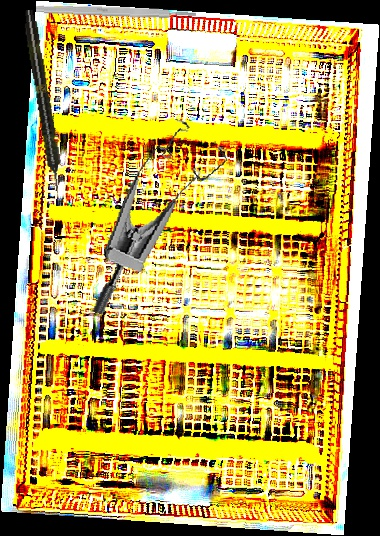Handpiece: (20, 8, 66, 193)
Scalpel Handle: (35, 4, 197, 20)
Speculum: (91, 110, 233, 333)
